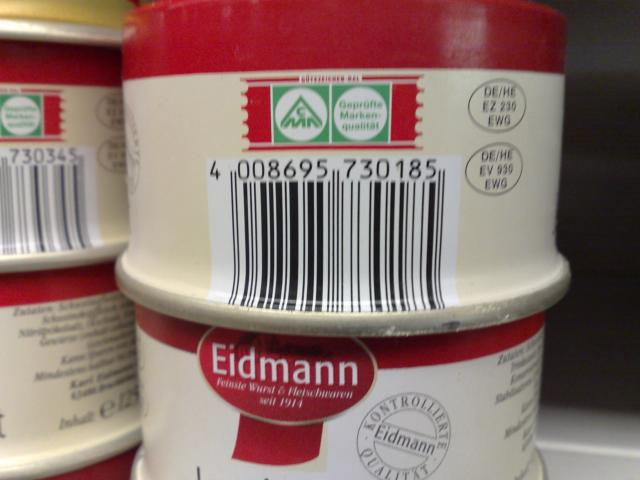Barkod: (227, 182, 446, 306)
